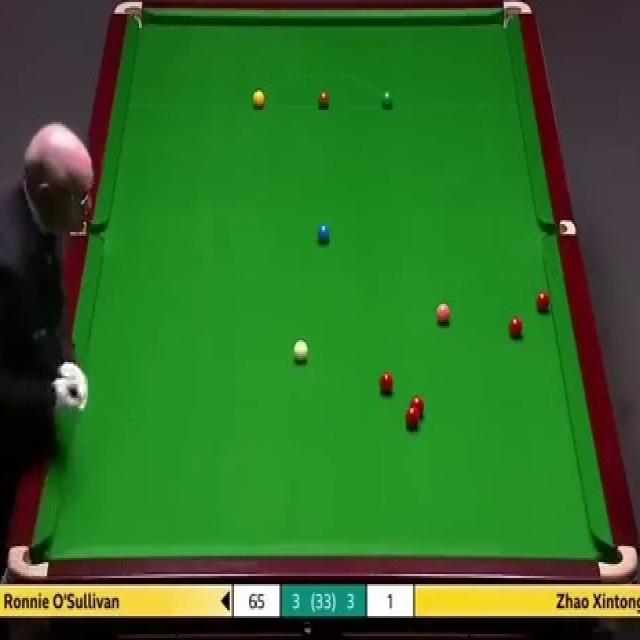pocket: (7, 540, 50, 582), (597, 540, 637, 583), (113, 0, 143, 28), (501, 0, 531, 28), (540, 220, 574, 235)
